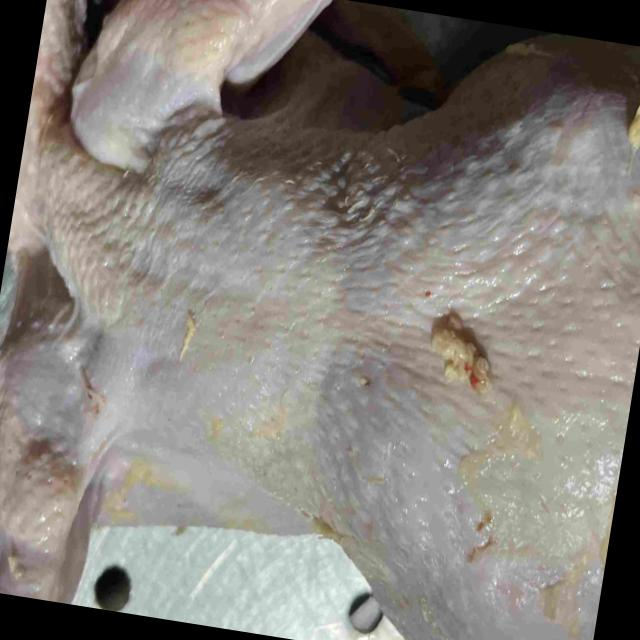back: (162, 81, 640, 510)
leg: (395, 534, 604, 640)
neck: (8, 0, 137, 293)
wing: (64, 0, 331, 204), (0, 370, 105, 604)
